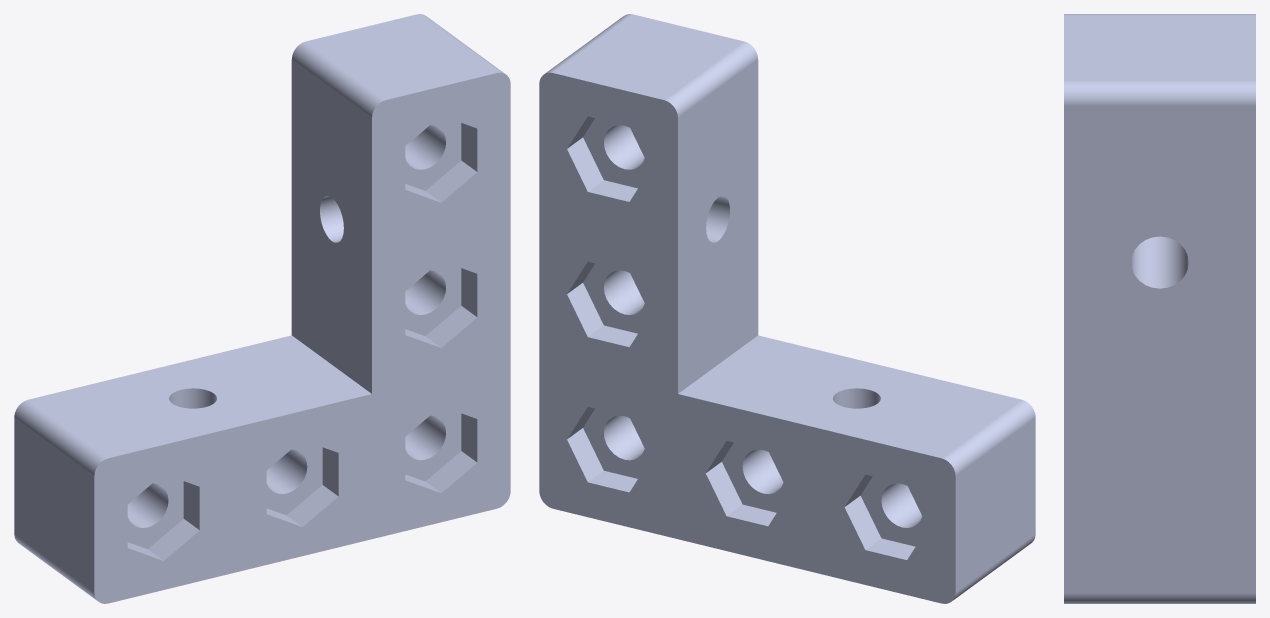
3 renders of one model, left to right at view 1: azimuth 30°, elevation 25°; view 2: azimuth 150°, elevation 25°; view 3: azimuth 270°, elevation 25°, orthographic. The views are drawn at different scales.
Parts seen in each view (by area): view 1: L5S; view 2: L5S; view 3: L5S.
Part boxes in pixels (x1,y1,x2,y2): L5S: [14, 14, 510, 603]; L5S: [539, 14, 1035, 603]; L5S: [1064, 14, 1255, 603].
Size of the model in its own units: 0.03 by 0.03 by 0.01.
